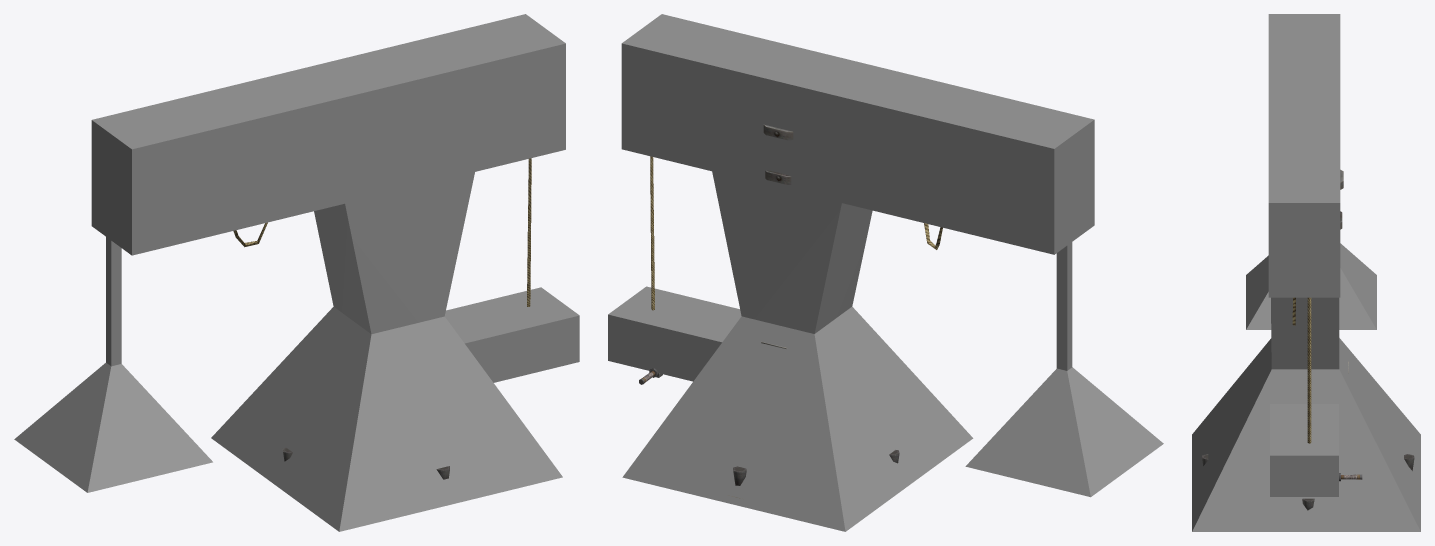
The model's file is Scene_Build_XuanWuShan_DiaoChe_1.FBX.
3 renders of one model, left to right at view 1: azimuth 30°, elevation 25°; view 2: azimuth 150°, elevation 25°; view 3: azimuth 270°, elevation 25°, orthographic. The views are drawn at different scales.
Visible parts, largest first — view 1: Scene_Build_XuanWuShan_DiaoChe_1_Xzm, Scene_Build_XuanWuShan_DiaoChe_1; view 2: Scene_Build_XuanWuShan_DiaoChe_1_Xzm, Scene_Build_XuanWuShan_DiaoChe_1; view 3: Scene_Build_XuanWuShan_DiaoChe_1_Xzm, Scene_Build_XuanWuShan_DiaoChe_1.
Part boxes in pixels (box(x1,y1,x2,y2)): Scene_Build_XuanWuShan_DiaoChe_1_Xzm: box(14, 14, 579, 531); Scene_Build_XuanWuShan_DiaoChe_1: box(233, 158, 531, 479); Scene_Build_XuanWuShan_DiaoChe_1_Xzm: box(608, 14, 1163, 531); Scene_Build_XuanWuShan_DiaoChe_1: box(639, 124, 942, 498); Scene_Build_XuanWuShan_DiaoChe_1_Xzm: box(1192, 14, 1420, 531); Scene_Build_XuanWuShan_DiaoChe_1: box(1202, 169, 1414, 510).
Bounding box in the file's own units: 1438 × 1063 × 632.
